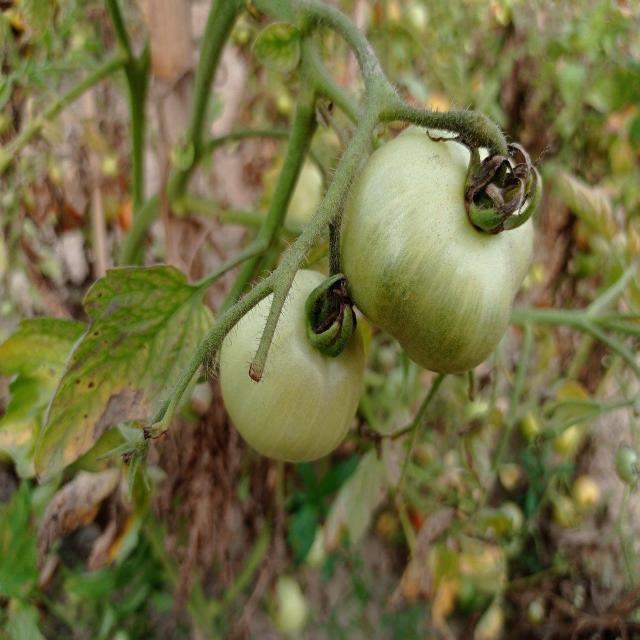Unripe: (341, 116, 537, 372), (218, 266, 365, 464)
